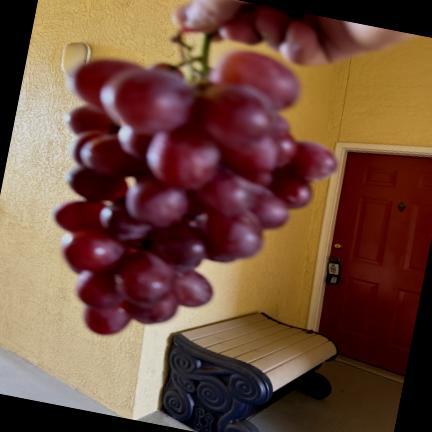grape_cluster: (54, 34, 336, 334)
